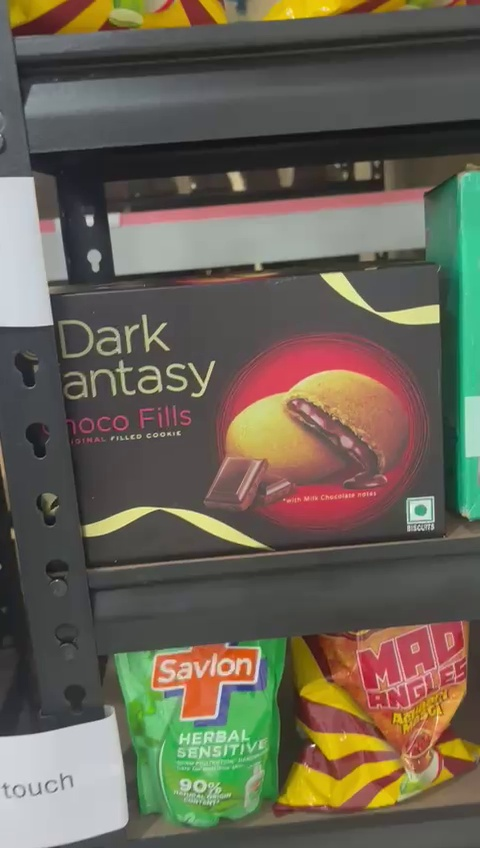Dark Fantasy: (50, 273, 450, 539)
